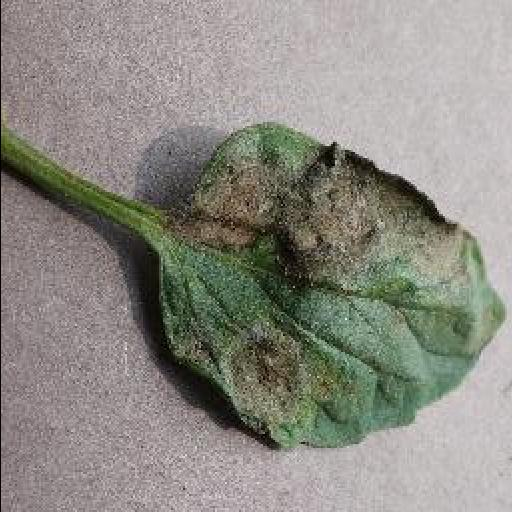disease_tomato: (158, 120, 510, 454)
